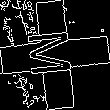M_E: (28, 30, 82, 80)
